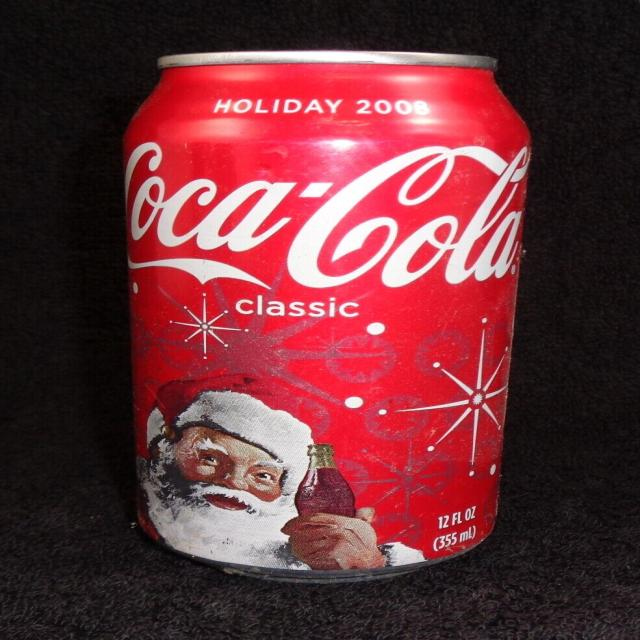cocacola: (121, 39, 531, 586)
